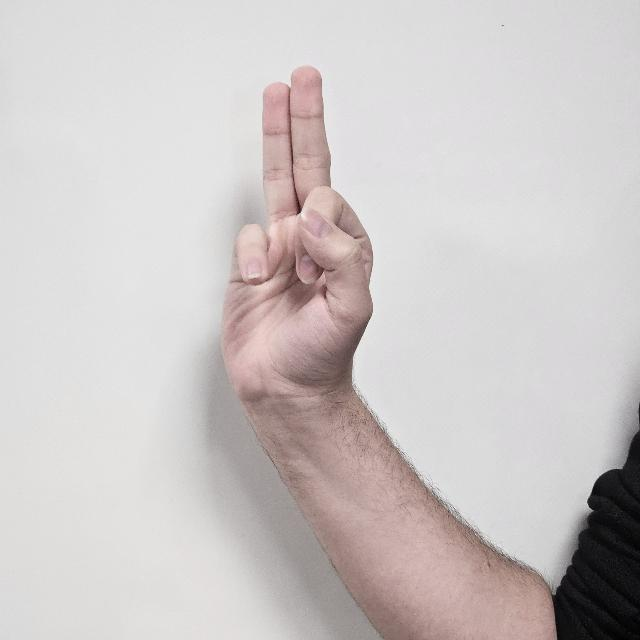R: (222, 61, 372, 426)
